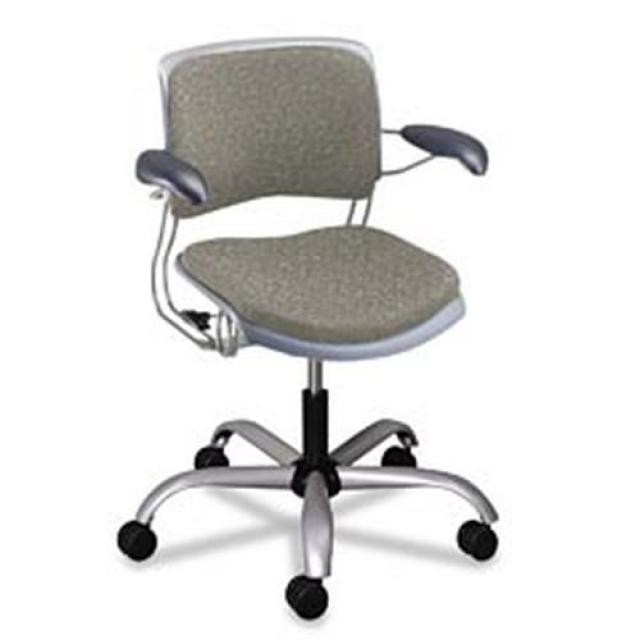swivelchair: (115, 37, 499, 623)
